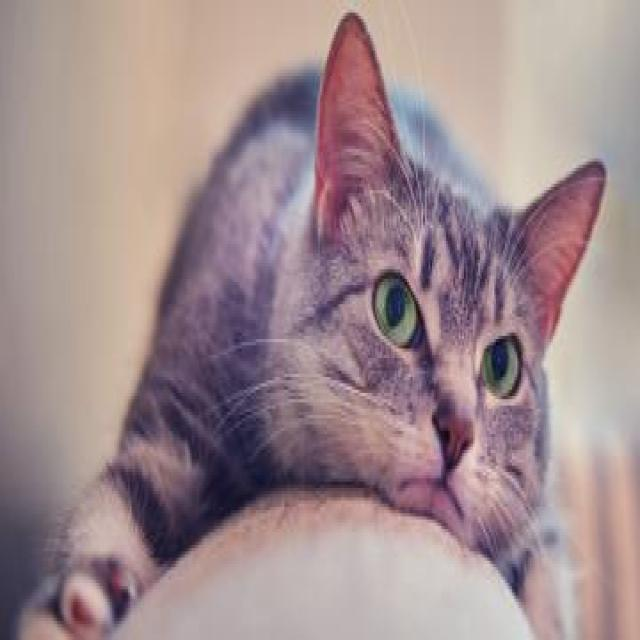Cat: (279, 3, 610, 557)
